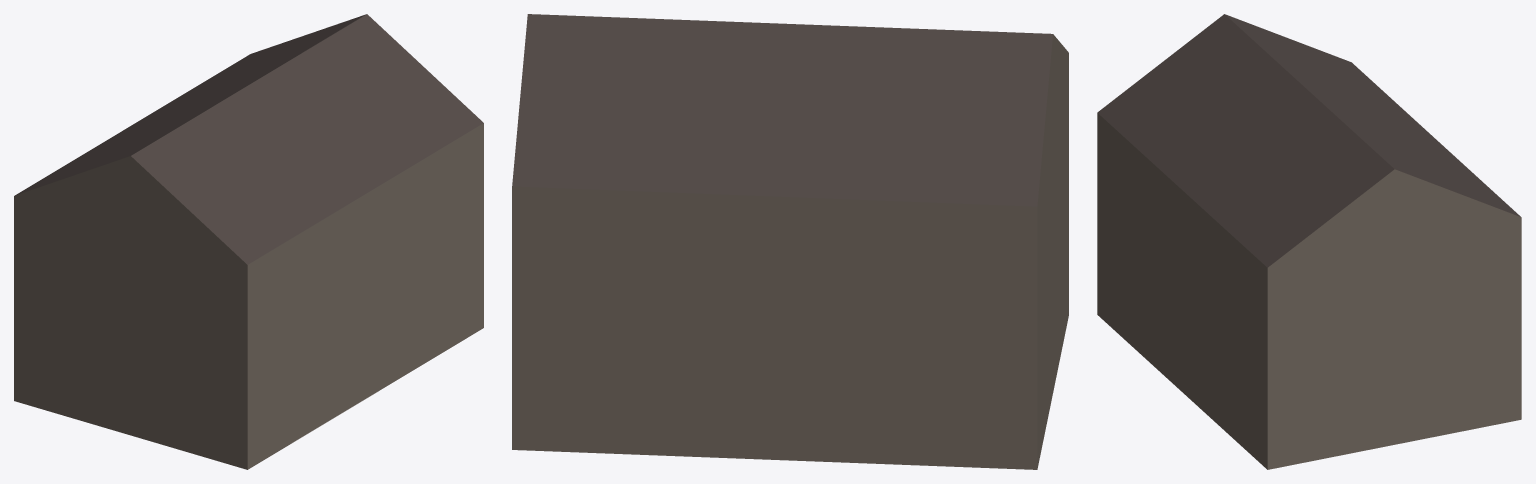
The picture shows the model from 3 angles, left to right: view 1: azimuth 30°, elevation 25°; view 2: azimuth 150°, elevation 25°; view 3: azimuth 270°, elevation 25°; orthographic projection. The views are drawn at different scales.
Parts seen in each view (by area): view 1: HP-w859088526; view 2: HP-w859088526; view 3: HP-w859088526.
Boxes of the visible parts, bbox=[...] form: HP-w859088526: bbox=[14, 14, 483, 469]; HP-w859088526: bbox=[512, 14, 1068, 469]; HP-w859088526: bbox=[1097, 14, 1521, 469].
Bounding box in the file's own units: 19.63 × 12.27 × 17.13.
